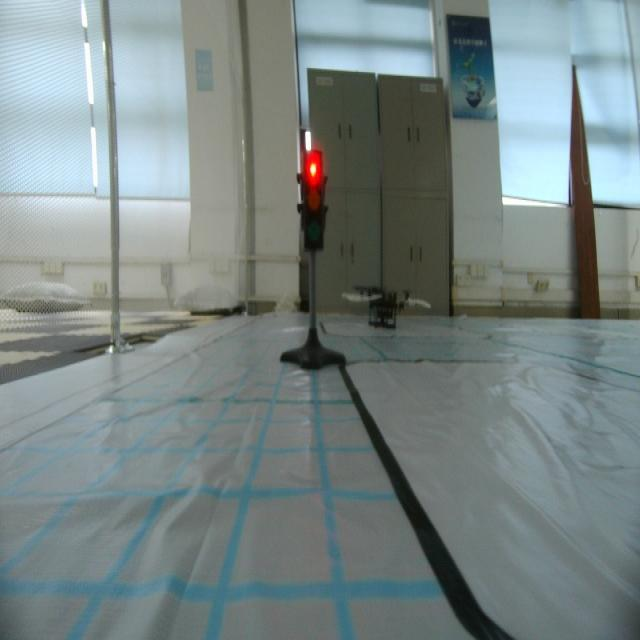red: (298, 147, 331, 263)
